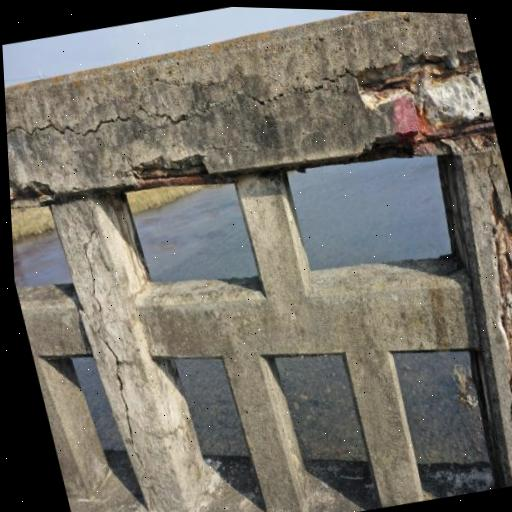exposed_rebar: (359, 61, 481, 93), (497, 248, 512, 388), (353, 135, 429, 162), (134, 165, 209, 181), (435, 121, 495, 138), (506, 237, 512, 267)
spalling: (356, 51, 484, 109), (495, 196, 512, 355), (128, 155, 211, 187), (9, 179, 59, 207)
